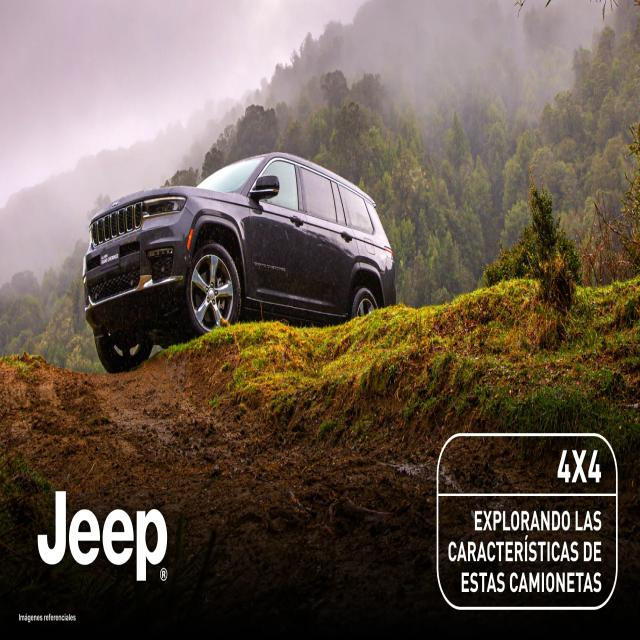SUV: (85, 149, 399, 372)
